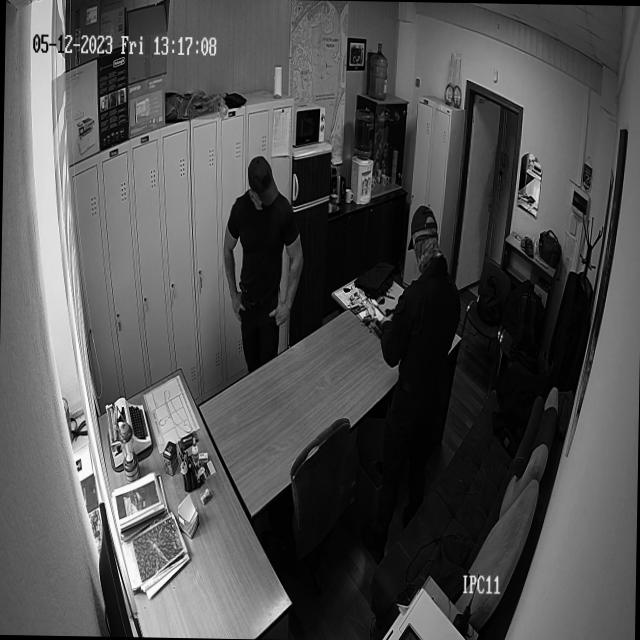gun: (236, 278, 252, 312)
person: (378, 203, 463, 472)
person with a gun: (220, 150, 304, 338)
